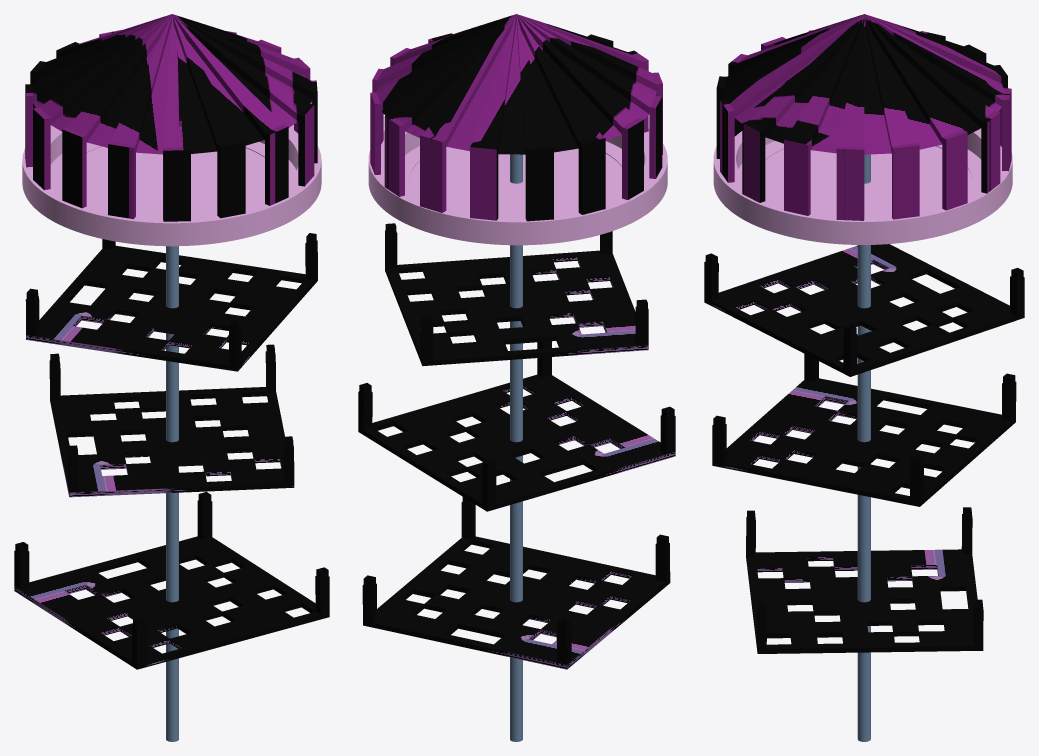
Rendered from LEVELTEST.fbx.
3 renders of one model, left to right at view 1: azimuth 30°, elevation 25°; view 2: azimuth 150°, elevation 25°; view 3: azimuth 270°, elevation 25°, orthographic.
Parts seen in each view (by area): view 1: Cone.041, Cube.003, Cube.001, Cube.002, Cylinder.001, Cylinder; view 2: Cone.041, Cube.002, Cube.003, Cube.001, Cylinder.001, Cylinder; view 3: Cone.041, Cube.002, Cube.001, Cube.003, Cylinder.001, Cylinder.
Boxes of the visible parts, x1,y1,x2,y2 form: Cone.041: [25, 14, 317, 221]; Cube.003: [14, 492, 329, 669]; Cube.001: [25, 233, 317, 371]; Cube.002: [49, 344, 294, 497]; Cylinder.001: [22, 124, 321, 246]; Cylinder: [166, 246, 178, 741]; Cone.041: [370, 14, 662, 221]; Cube.002: [358, 341, 675, 511]; Cube.003: [362, 497, 670, 669]; Cube.001: [385, 223, 648, 366]; Cylinder.001: [368, 128, 667, 245]; Cylinder: [510, 154, 522, 741]; Cone.041: [716, 14, 1011, 220]; Cube.002: [712, 354, 1016, 506]; Cube.001: [704, 244, 1024, 376]; Cube.003: [746, 507, 983, 653]; Cylinder.001: [713, 128, 1012, 244]; Cylinder: [857, 154, 870, 741].
Size of the model in its own units: 4881 by 12164 by 4874.
4 materials, 2 textured.
